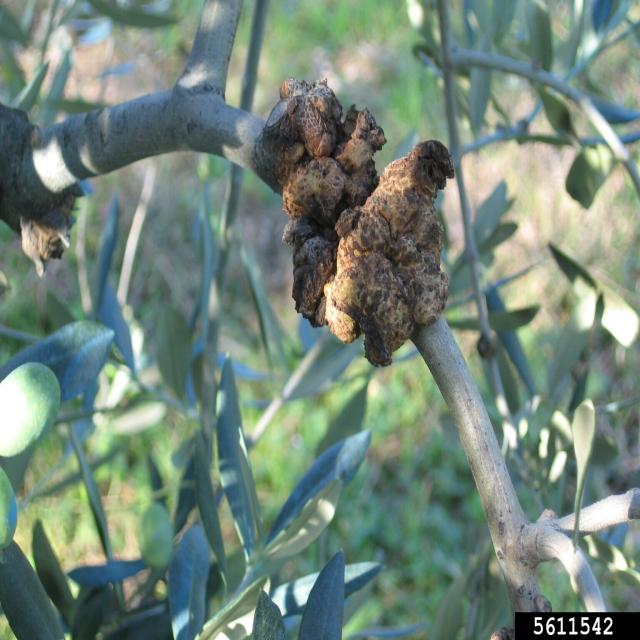Tuberculosis: (264, 77, 455, 366)
